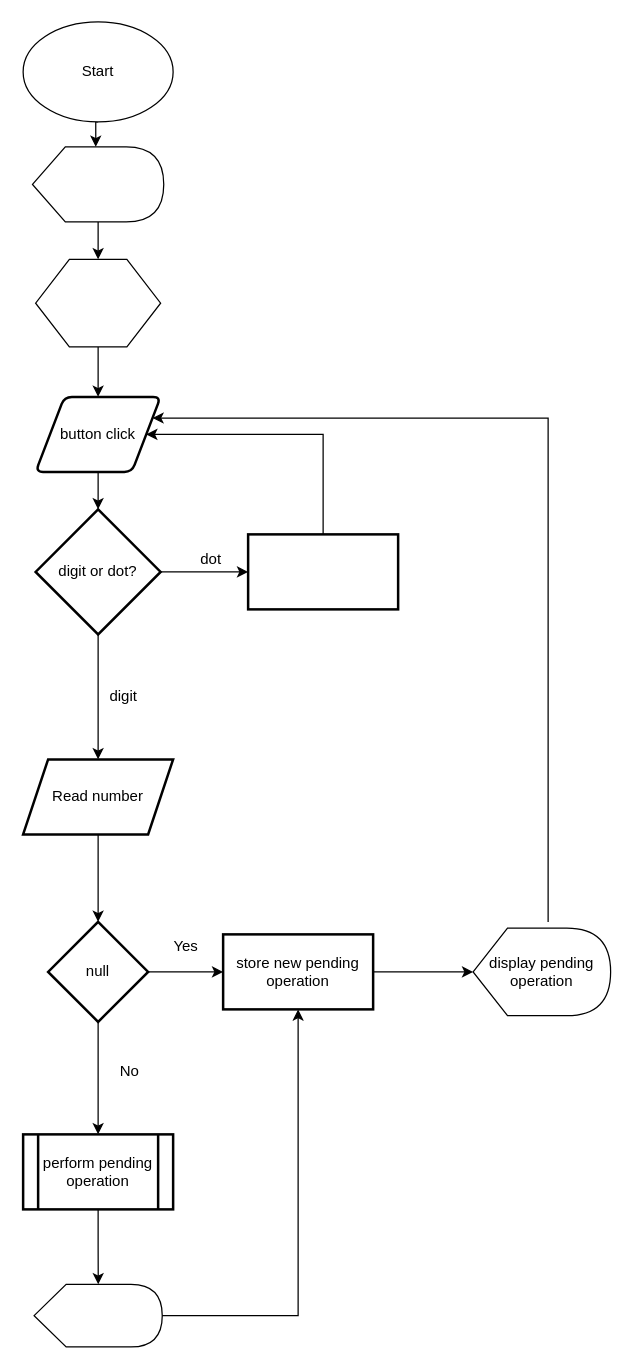
The diagram is 633 pixels wide and 1369 high, and some of its shapes have lost their labels. Here are the shapes that lost their labels. From the top down, the centre of each, then its label:
point 97,184: display screen from layout
point 97,302: initialization
point 322,571: append to number
point 97,1315: display result
